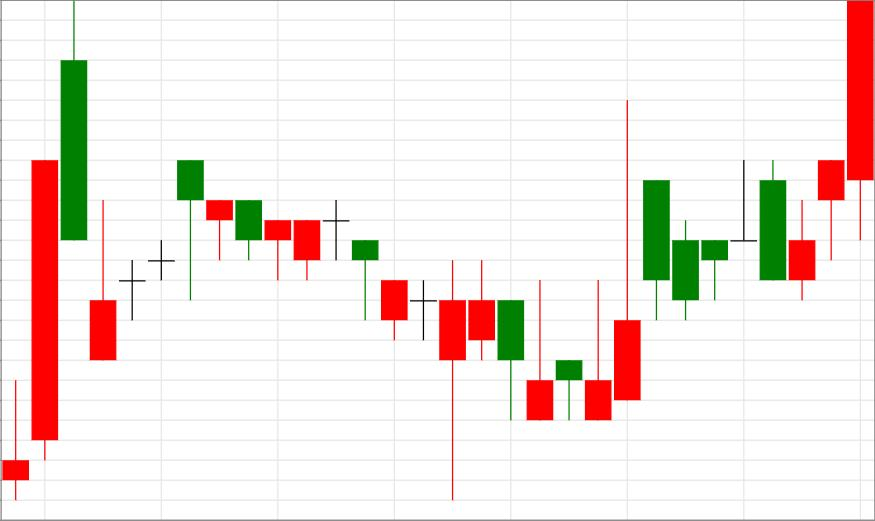hammer_rise: (90, 160, 205, 361)
inverse_hammer_rise: (352, 241, 553, 500)
